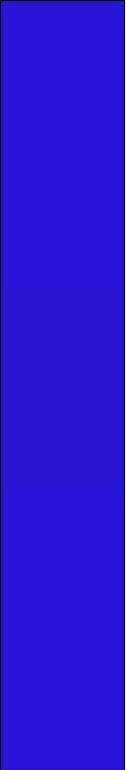safe: (4, 8, 116, 770)
